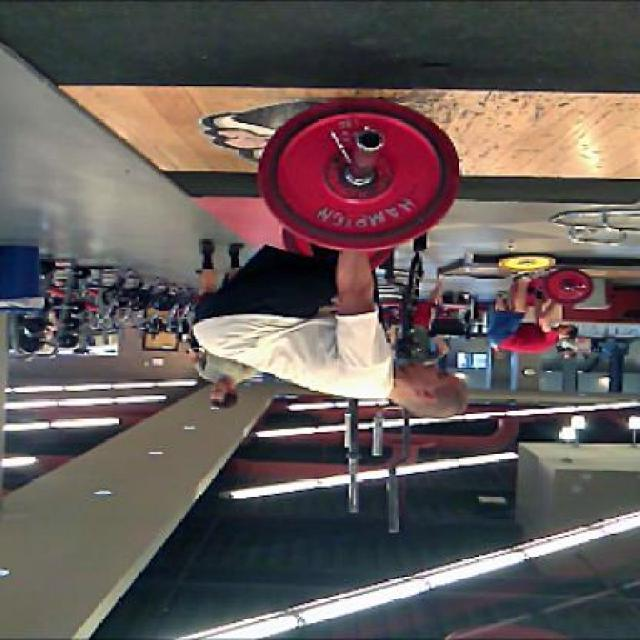Barbell: (356, 128, 384, 152)
